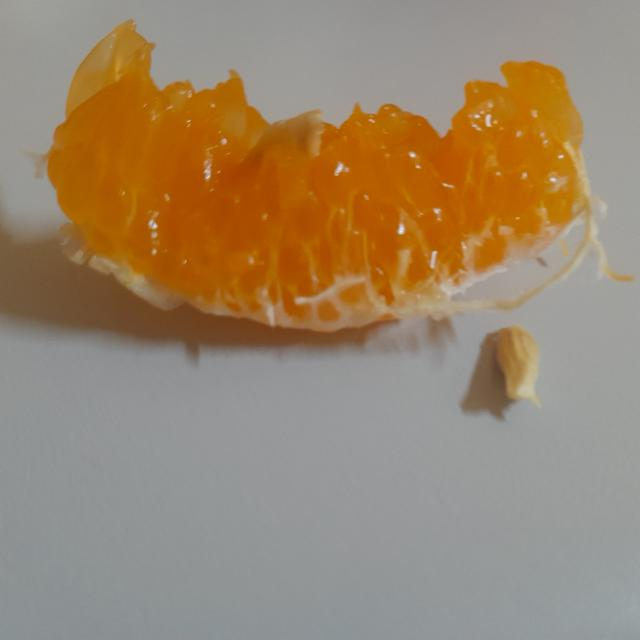Cam: (56, 21, 591, 336)
